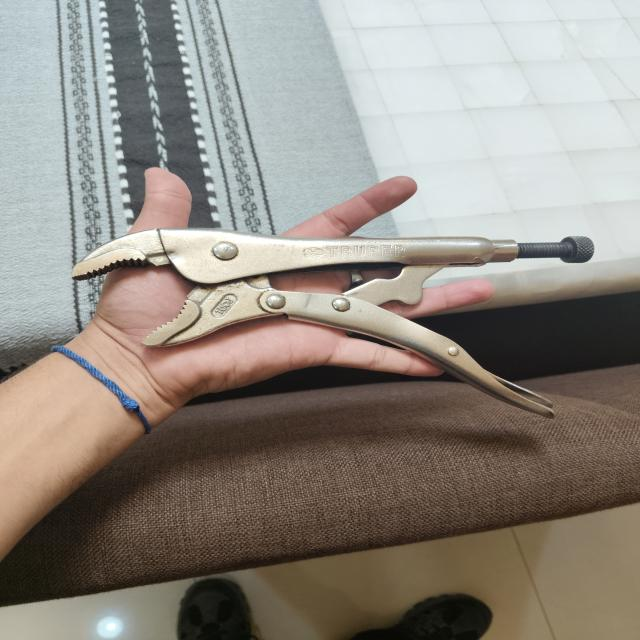PinzasPresion: (62, 195, 598, 438)
